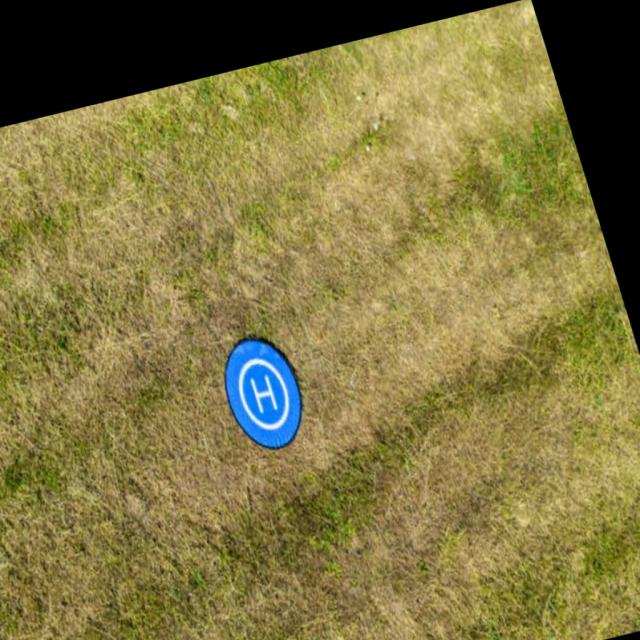helipad: (236, 356, 290, 430)
